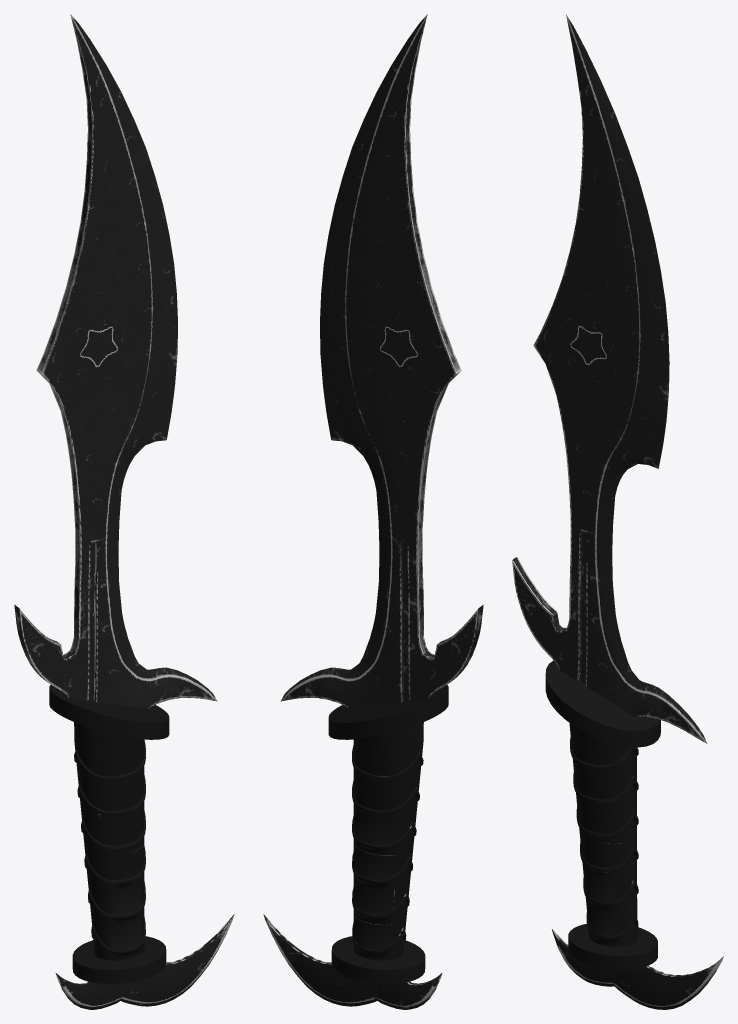
The picture shows the model from 3 angles, left to right: view 1: azimuth 30°, elevation 25°; view 2: azimuth 150°, elevation 25°; view 3: azimuth 330°, elevation 25°; orthographic projection. The views are drawn at different scales.
Parts seen in each view (by area): view 1: knife_low; view 2: knife_low; view 3: knife_low.
Part boxes in pixels (box(x1,y1,x2,y2)): knife_low: box(14, 14, 234, 1009); knife_low: box(263, 14, 483, 1009); knife_low: box(512, 14, 723, 1009).
Bounding box in the file's own units: 190 × 844 × 79.22.
1 material, 1 textured.
